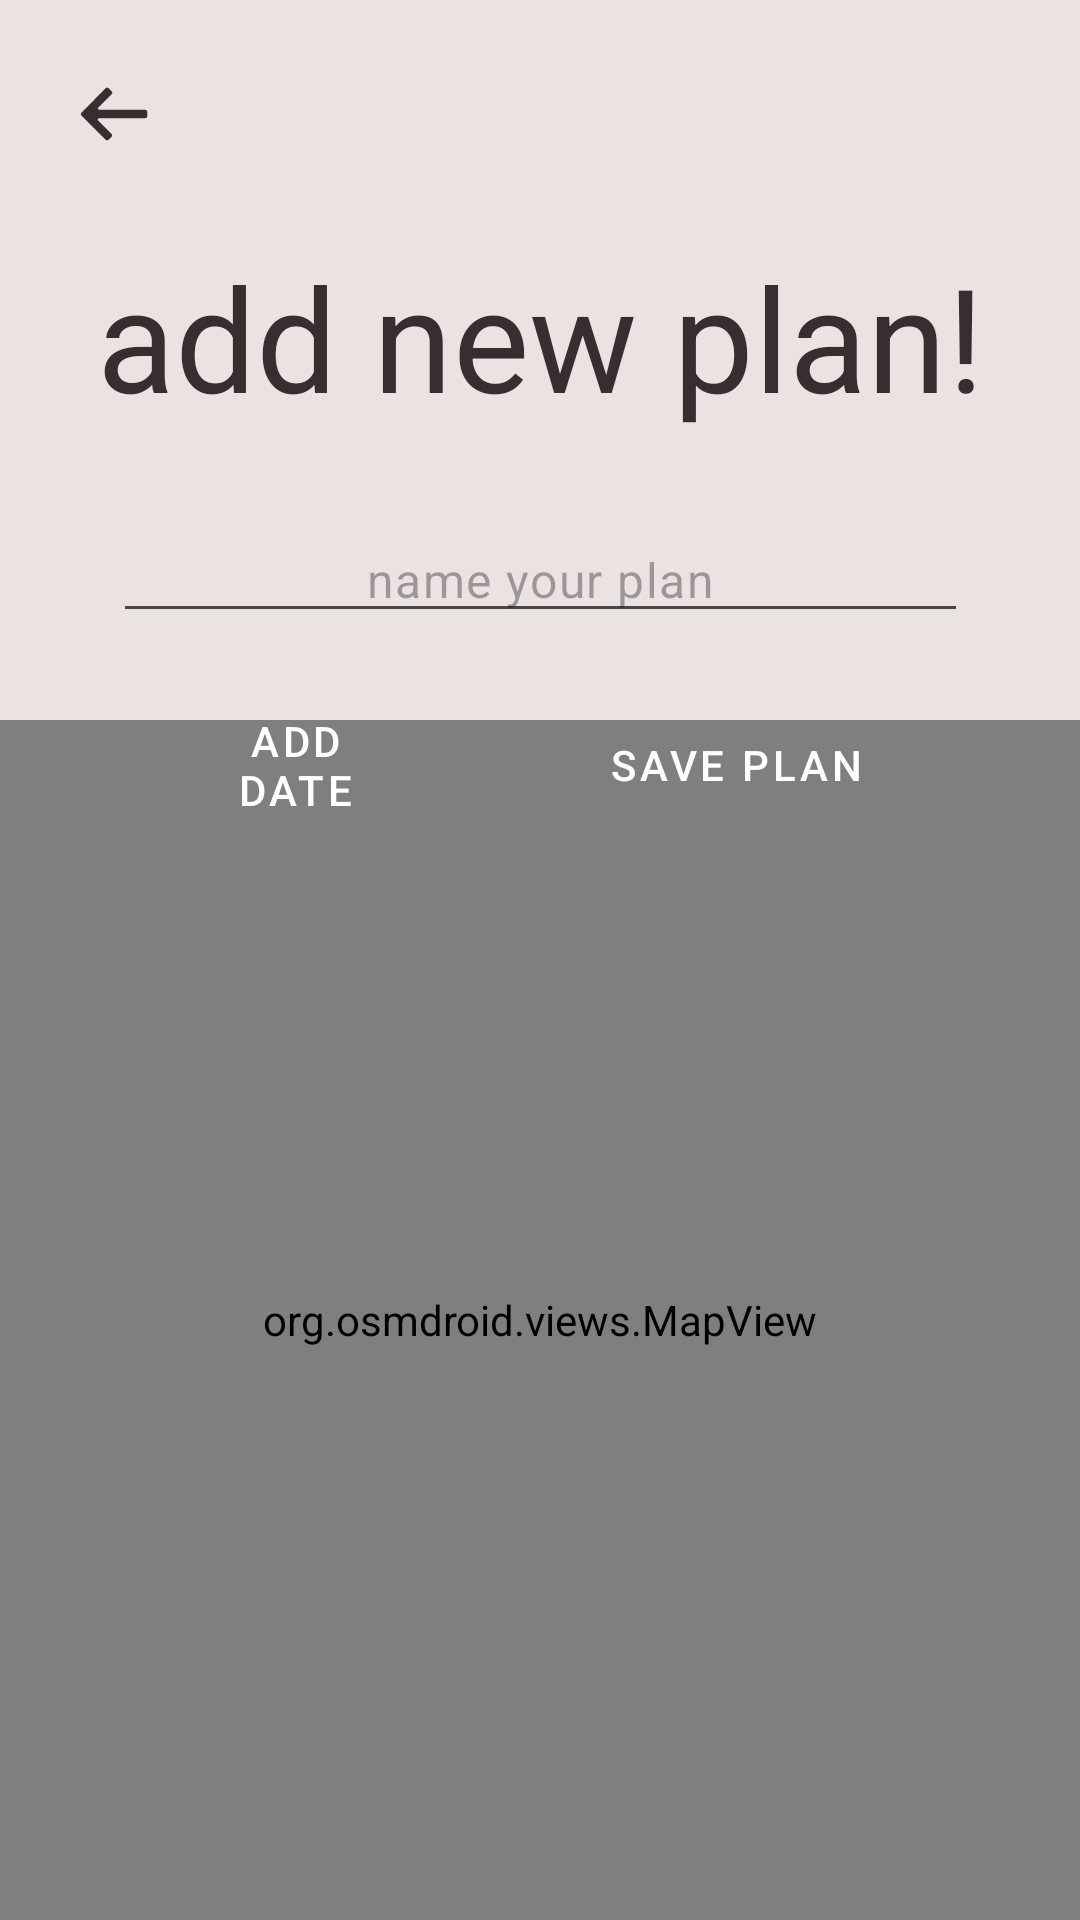

Where to tap for icons on this 1080x1920 app screen, as (x=x, y=y):
back: (x=114, y=114)
